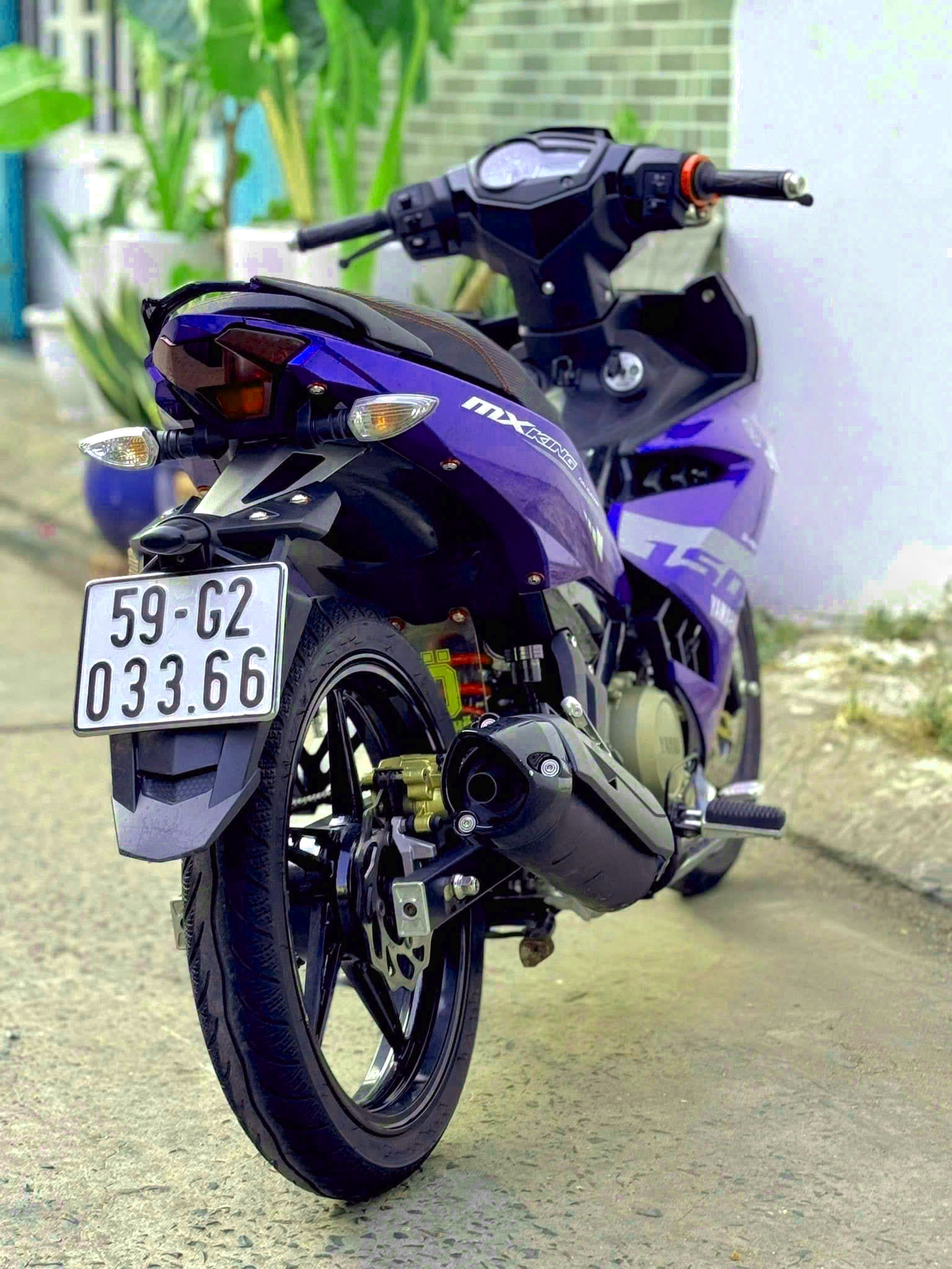Bien-so: (90, 580, 312, 766)
